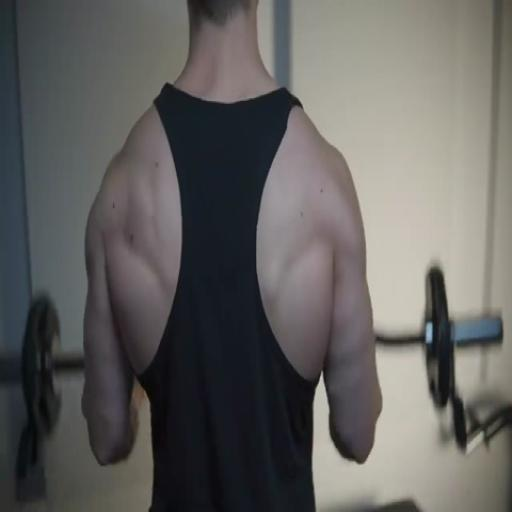exercise: (80, 0, 385, 511)
